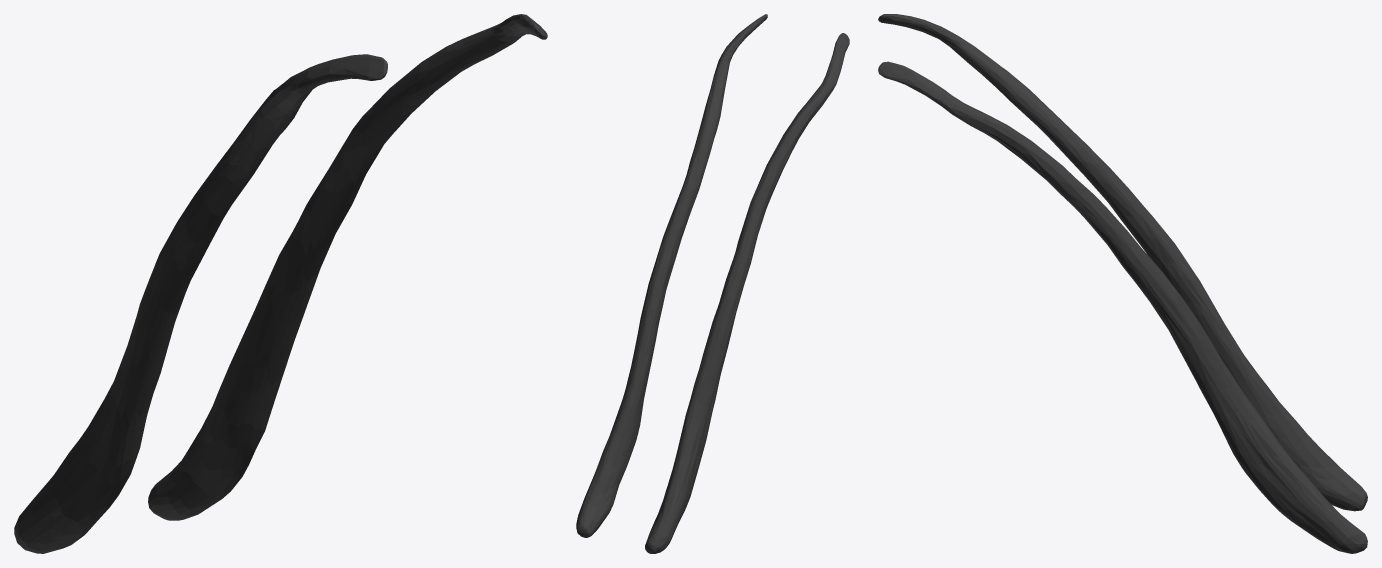
The model's file is m_longissimus_capitis.glb.
3 views of the same model, side by side, from view 1: azimuth 30°, elevation 25°; view 2: azimuth 150°, elevation 25°; view 3: azimuth 270°, elevation 25° (orthographic). The views are drawn at different scales.
Parts seen in each view (by area): view 1: m_longissimus_capitis; view 2: m_longissimus_capitis; view 3: m_longissimus_capitis.
Boxes of the visible parts, box(x1,y1,x2,y2) form: m_longissimus_capitis: box(14, 14, 547, 553); m_longissimus_capitis: box(576, 14, 849, 553); m_longissimus_capitis: box(878, 14, 1367, 553).
Bounding box in the file's own units: 0.00237 × 0.00764 × 0.00688.
Materials: 1 (1 with a texture image).
